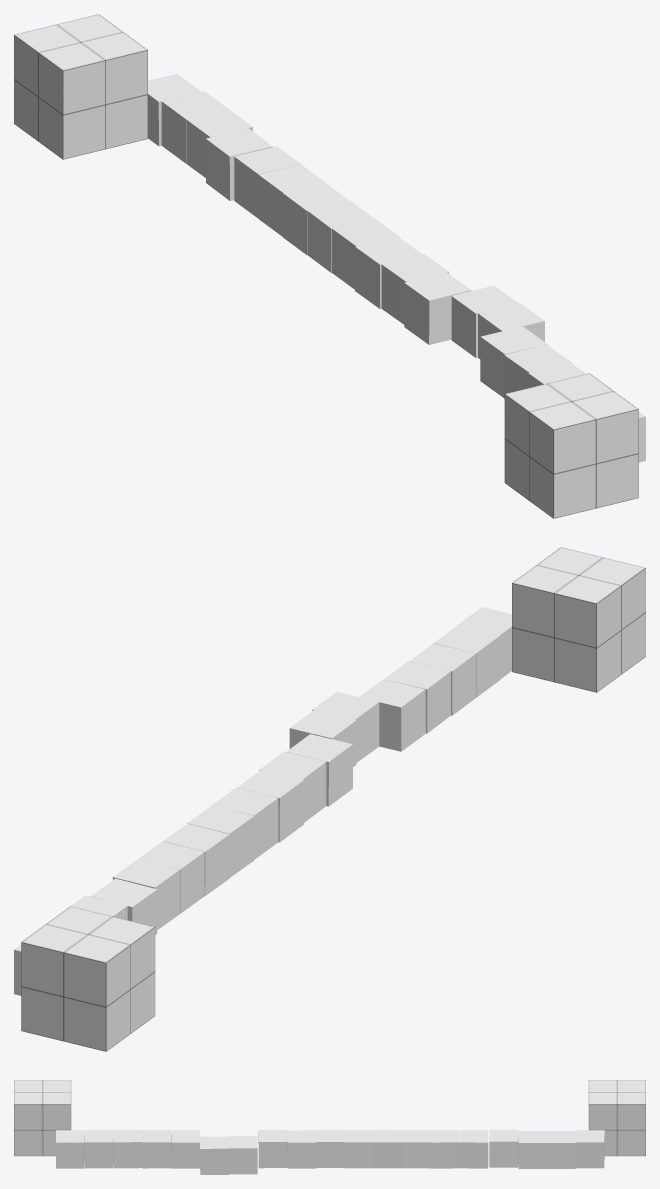
3 views of the same model, one above another, from view 1: azimuth 30°, elevation 25°; view 2: azimuth 150°, elevation 25°; view 3: azimuth 270°, elevation 25° (orthographic). The views are drawn at different scales.
Visible parts, largest first — view 1: Plane/BasicEnvironment/StartCube-1, Plane/BasicEnvironment/StartCube-2, GridSmallCube_0:18, GridSmallCube_0:1, GridSmallCube_0:7, GridSmallCube_0:12, GridSmallCube_0:3, GridSmallCube_0:8, GridSmallCube_0:5, GridSmallCube_0:9, GridSmallCube_0:14, GridSmallCube_0:4 (+7 smaller); view 2: Plane/BasicEnvironment/StartCube-2, Plane/BasicEnvironment/StartCube-1, GridSmallCube_0:14, GridSmallCube_0:18, GridSmallCube_0:7, GridSmallCube_0:16, GridSmallCube_0:8, GridSmallCube_0:9, GridSmallCube_0:17, GridSmallCube_0:6, GridSmallCube_0:10, GridSmallCube_0:4 (+7 smaller); view 3: Plane/BasicEnvironment/StartCube-1, Plane/BasicEnvironment/StartCube-2, GridSmallCube_0:4, GridSmallCube_0:5, GridSmallCube_0:10, GridSmallCube_0:1, GridSmallCube_0, GridSmallCube_0:16, GridSmallCube_0:17, GridSmallCube_0:6, GridSmallCube_0:13, GridSmallCube_0:18 (+9 smaller).
Boxes of the visible parts, x1,y1,x2,y2 form: Plane/BasicEnvironment/StartCube-1: [504, 373, 638, 518]; Plane/BasicEnvironment/StartCube-2: [14, 14, 147, 159]; GridSmallCube_0:18: [404, 272, 471, 344]; GridSmallCube_0:1: [205, 128, 272, 200]; GridSmallCube_0:7: [355, 236, 421, 308]; GridSmallCube_0:12: [451, 285, 518, 357]; GridSmallCube_0:3: [161, 91, 227, 163]; GridSmallCube_0:8: [282, 182, 348, 254]; GridSmallCube_0:5: [234, 146, 300, 218]; GridSmallCube_0:9: [307, 200, 373, 272]; GridSmallCube_0:14: [480, 326, 547, 397]; GridSmallCube_0:4: [258, 164, 325, 236]; Plane/BasicEnvironment/StartCube-2: [21, 906, 155, 1051]; Plane/BasicEnvironment/StartCube-1: [512, 547, 645, 692]; GridSmallCube_0:14: [359, 679, 425, 751]; GridSmallCube_0:18: [286, 734, 352, 806]; GridSmallCube_0:7: [237, 770, 303, 842]; GridSmallCube_0:16: [384, 661, 450, 733]; GridSmallCube_0:8: [163, 823, 229, 895]; GridSmallCube_0:9: [187, 805, 254, 877]; GridSmallCube_0:17: [434, 625, 500, 697]; GridSmallCube_0:6: [409, 643, 475, 715]; GridSmallCube_0:10: [211, 787, 278, 859]; GridSmallCube_0:4: [138, 841, 204, 913]; Plane/BasicEnvironment/StartCube-1: [14, 1080, 71, 1156]; Plane/BasicEnvironment/StartCube-2: [588, 1080, 645, 1156]; GridSmallCube_0:4: [430, 1130, 459, 1168]; GridSmallCube_0:5: [459, 1130, 488, 1168]; GridSmallCube_0:10: [344, 1130, 373, 1168]; GridSmallCube_0:1: [489, 1129, 518, 1167]; GridSmallCube_0: [575, 1130, 604, 1168]; GridSmallCube_0:16: [142, 1130, 171, 1168]; GridSmallCube_0:17: [84, 1130, 113, 1168]; GridSmallCube_0:6: [113, 1130, 142, 1168]; GridSmallCube_0:13: [287, 1130, 316, 1168]; GridSmallCube_0:18: [258, 1129, 287, 1168].
Bounding box in the file's own units: 0.3535 × 0.2 × 2.2.
